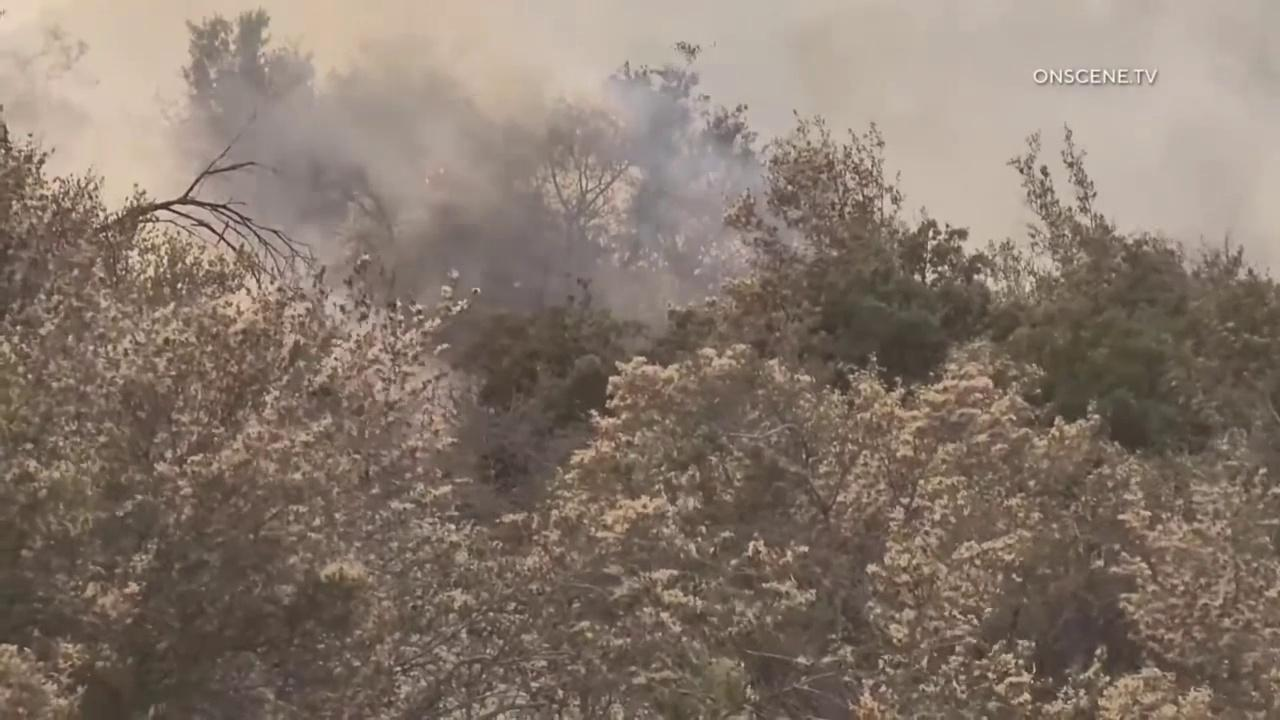smoke: (0, 0, 1280, 349)
